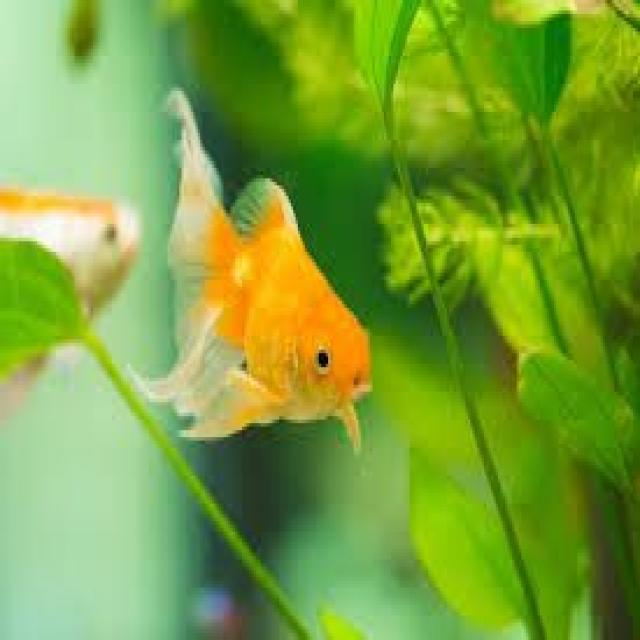Gold-Fish: (8, 40, 416, 488)
